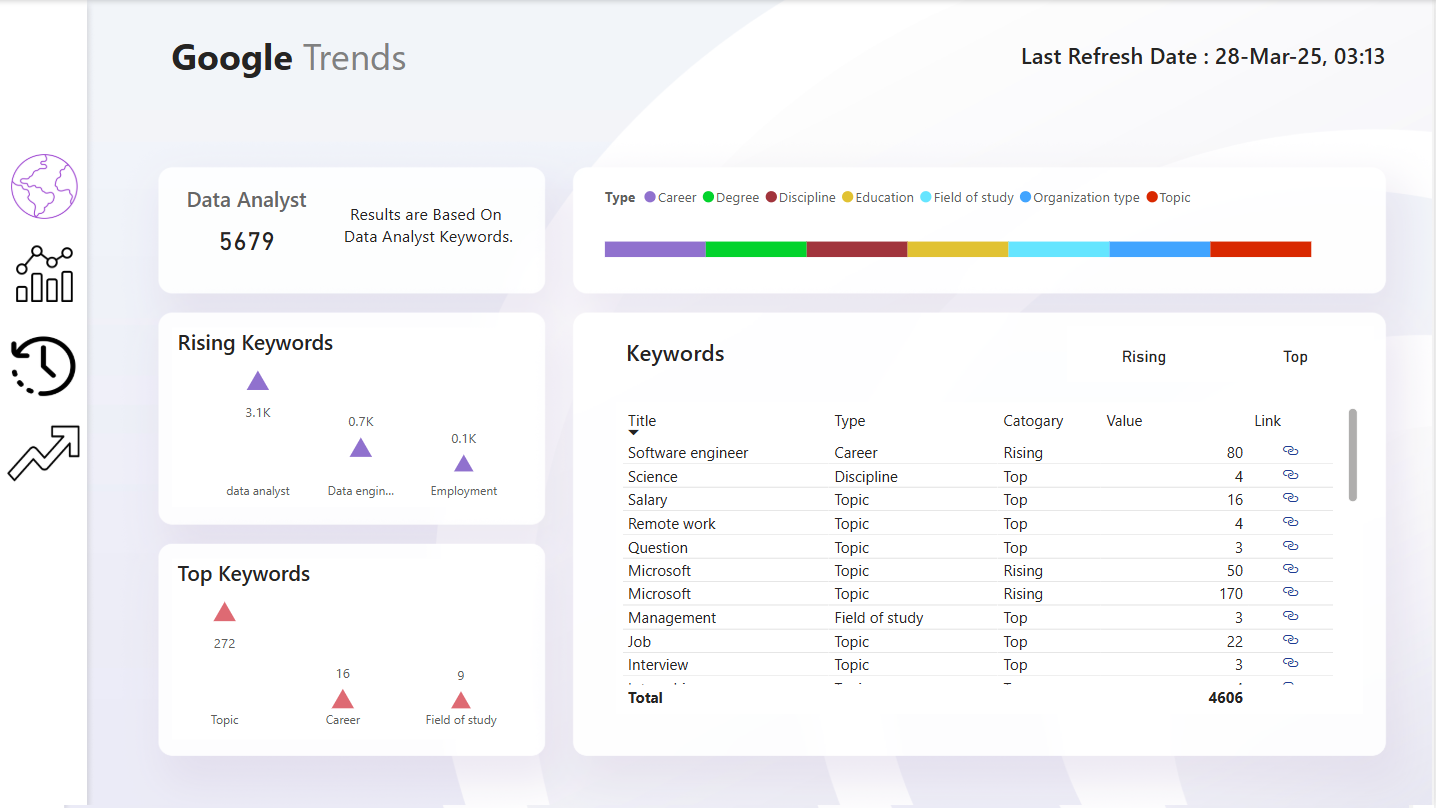

This screenshot's page, from the dashboard's own definition file:
{"tool":"powerbi","page":{"name":"Rising and Top Keywords","canvas":[1280,720],"ordinal":2},"visuals":[{"type":"card","fields":{"Values":["Date_by_API.Imp_value"]},"box":[155.6,165.3,132.7,78.4],"z":0},{"type":"card","fields":{"Values":["Realated_Keywords_Main.Imp_Short_title"]},"box":[288.3,155.6,191.8,88.1],"z":1000},{"type":"lineChart","title":"Rising Keywords","fields":{"Category":["Rising_Keywords.Title"],"Y":["Sum(Rising_Keywords.Value)"]},"box":[156.2,291.2,306.7,160.4],"z":2000},{"type":"lineChart","title":"Top Keywords","fields":{"Y":["Sum(Top_Keywords.Value)"],"Category":["Top_Keywords.Type"]},"box":[155.6,497.1,307.6,160.5],"z":3000},{"type":"barChart","fields":{"Y":["Sum(Rising_Keywords.Value)"],"Series":["Top_Keywords.Type"]},"box":[536.9,155.6,743.2,97.7],"z":4000},{"type":"advancedSlicerVisual","fields":{"Values":["Top_Rising.Catogary"]},"box":[953.1,290.8,273.9,49.5],"z":5000},{"type":"tableEx","fields":{"Values":["Top_Rising.Title","Top_Rising.Type","Top_Rising.Catogary","Sum(Top_Rising.Value)","Top_Rising.Link"]},"box":[551.3,358.3,666,277.5],"z":6000},{"type":"card","fields":{"Values":["Top_Rising.Top_TR"]},"box":[517.6,290.8,167.7,49.5],"z":7000},{"type":"textbox","box":[150,23.3,248.8,55.8],"z":8000},{"type":"card","fields":{"Values":["Min(Refreash_Date.Refresh_Date)"]},"box":[898.8,32.6,352.3,37.4],"z":9000},{"type":"image","box":[3.6,290.8,76,71.2],"z":10000},{"type":"image","box":[12.1,213.5,60.3,60.3],"z":11000},{"type":"image","box":[7.2,132.7,68.8,67.6],"z":12000},{"type":"image","box":[3.6,361.9,76,84.5],"z":13000}]}

Visuals, with their boxes on the page's 1280x720 design canvas (x1, y1, x2, y2). These are canvas units, not pixel positions in the 1436x808 screenshot, which may show the page scaled, cropped or inside an application window:
card - Date_by_API.Imp_value: region(156, 165, 288, 244)
card - Realated_Keywords_Main.Imp_Short_title: region(288, 156, 480, 244)
"Rising Keywords" lineChart: region(156, 291, 463, 452)
"Top Keywords" lineChart: region(156, 497, 463, 658)
barChart - Sum(Rising_Keywords.Value) x Top_Keywords.Type: region(537, 156, 1280, 253)
advancedSlicerVisual - Top_Rising.Catogary: region(953, 291, 1227, 340)
tableEx - Top_Rising.Title x Top_Rising.Type: region(551, 358, 1217, 636)
card - Top_Rising.Top_TR: region(518, 291, 685, 340)
textbox: region(150, 23, 399, 79)
card - Min(Refreash_Date.Refresh_Date): region(899, 33, 1251, 70)
image: region(4, 291, 80, 362)
image: region(12, 214, 72, 274)
image: region(7, 133, 76, 200)
image: region(4, 362, 80, 446)
